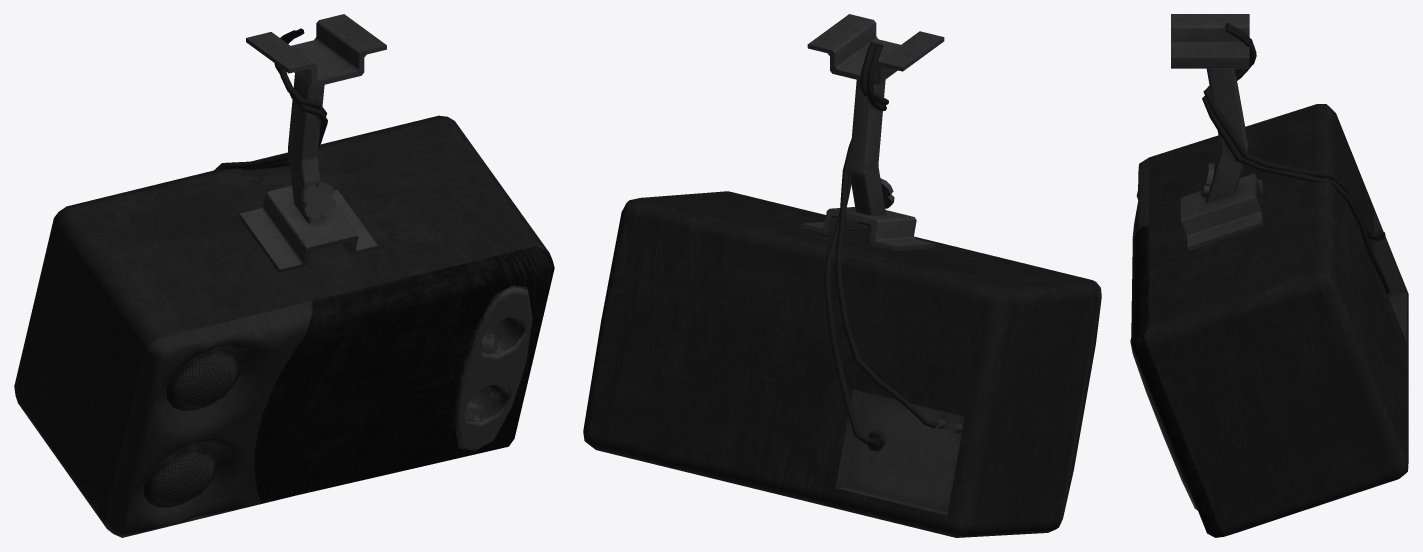
The model's file is SpeakerCeiling.FBX.
3 renders of one model, left to right at view 1: azimuth 30°, elevation 25°; view 2: azimuth 150°, elevation 25°; view 3: azimuth 270°, elevation 25°, orthographic. The views are drawn at different scales.
Visible parts, largest first — view 1: SpeakerCeiling; view 2: SpeakerCeiling; view 3: SpeakerCeiling.
Boxes of the visible parts, bbox=[...] form: SpeakerCeiling: bbox=[14, 14, 554, 537]; SpeakerCeiling: bbox=[583, 14, 1101, 537]; SpeakerCeiling: bbox=[1130, 14, 1408, 537].
Size of the model in its own units: 40 by 43.92 by 26.18.
